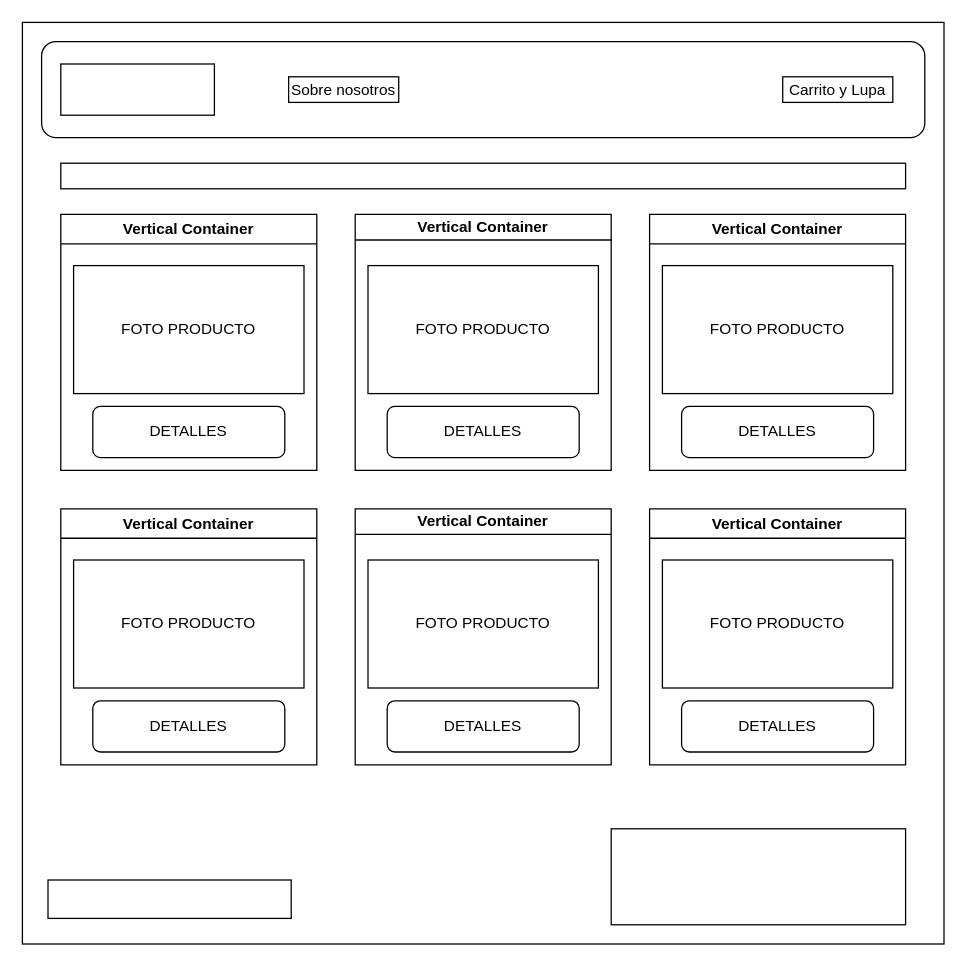
Image size: 966x966. Some labels were removed from this diagram. Here are the shapes that lost their labels. From the top down, the centre of each, then its label:
pixel 137 89: LOGO
pixel 483 175: Filtros y Ordenar Por
pixel 758 876: Formulario de Contacto
pixel 169 898: Logo, nombre y direccion
